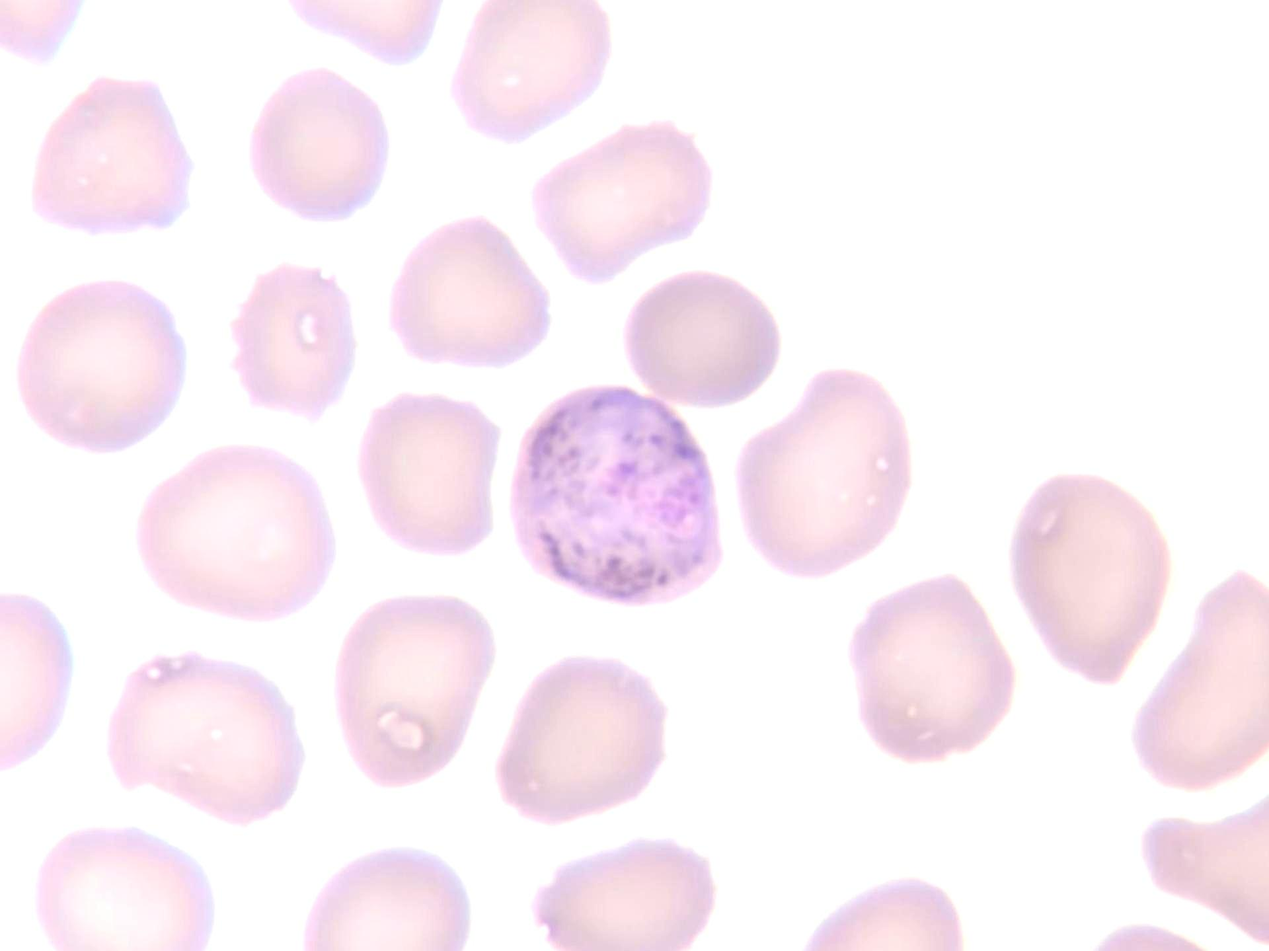Infected: (516, 380, 717, 609)
Uninfected: (731, 371, 908, 577), (137, 444, 333, 622), (1013, 472, 1175, 680), (106, 655, 300, 825), (335, 591, 489, 784), (850, 569, 1008, 756), (527, 126, 714, 284), (15, 283, 178, 461), (1132, 573, 1269, 784), (24, 71, 192, 239), (493, 662, 662, 827), (388, 212, 552, 365), (357, 393, 502, 559), (447, 0, 604, 148), (242, 65, 389, 220), (35, 831, 220, 951), (531, 838, 704, 951), (227, 261, 354, 411), (626, 278, 777, 403), (302, 847, 476, 951)
